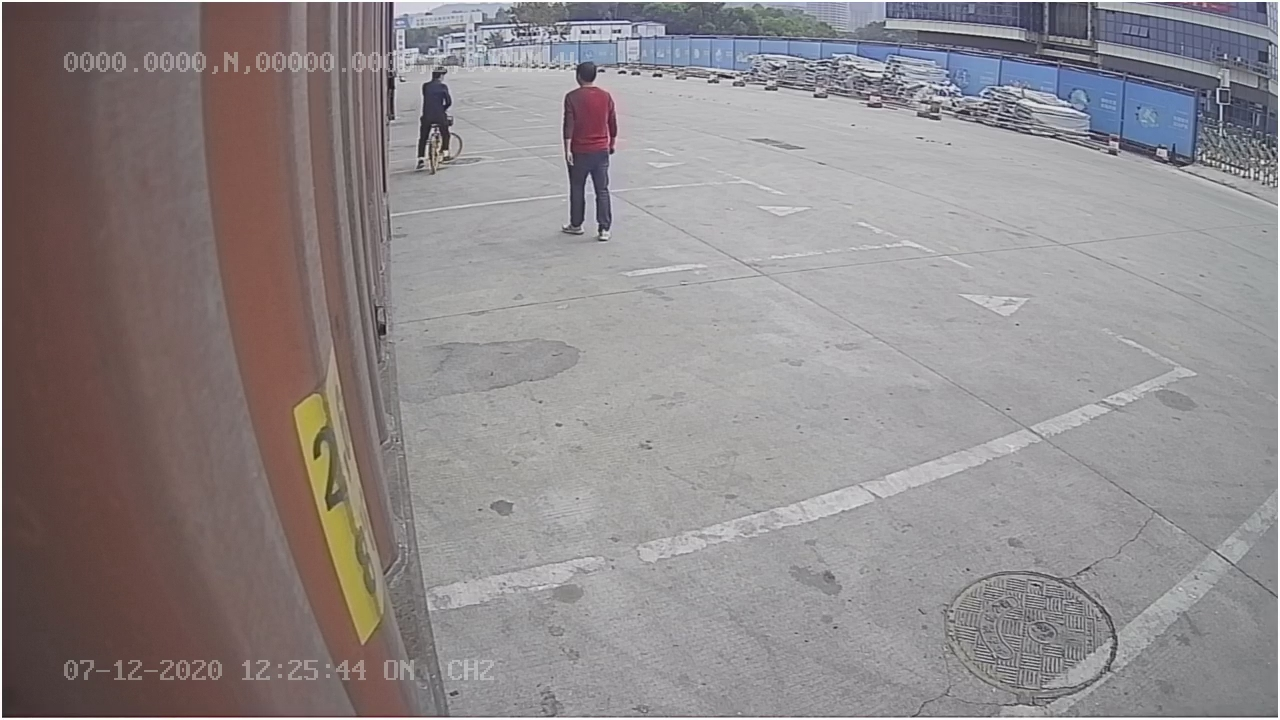person: (553, 60, 620, 247)
